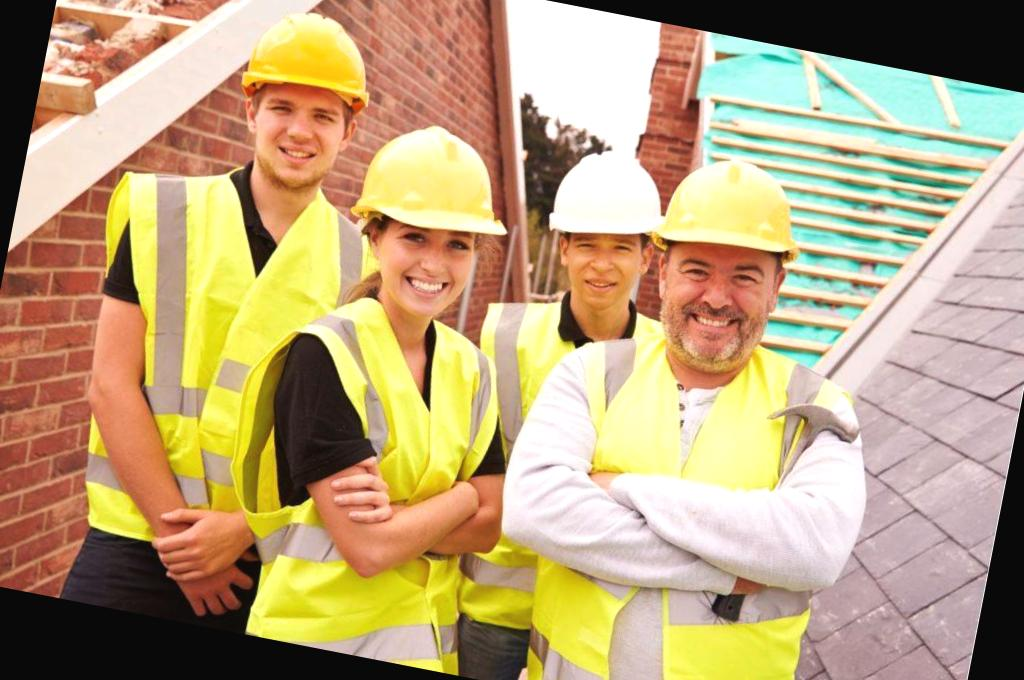helmet: (342, 109, 525, 260), (648, 142, 814, 282), (230, 0, 395, 126), (542, 131, 668, 257)
person: (14, 0, 392, 640), (508, 131, 909, 680), (224, 107, 558, 676)
